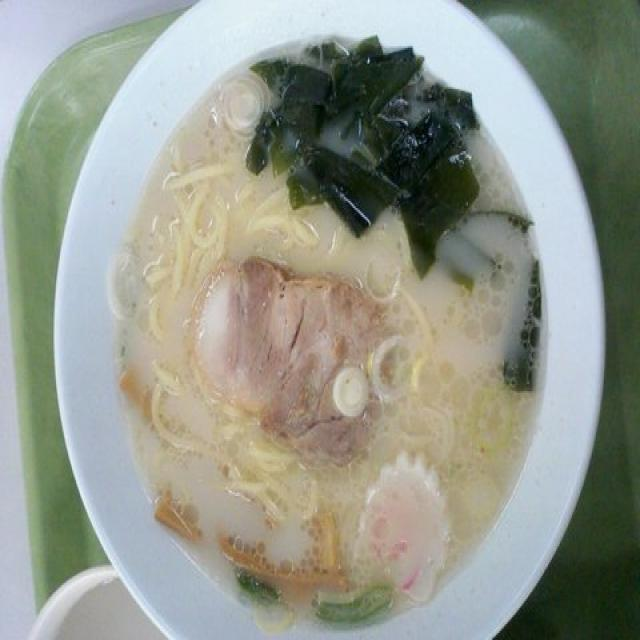面条主食: (49, 0, 604, 640)
